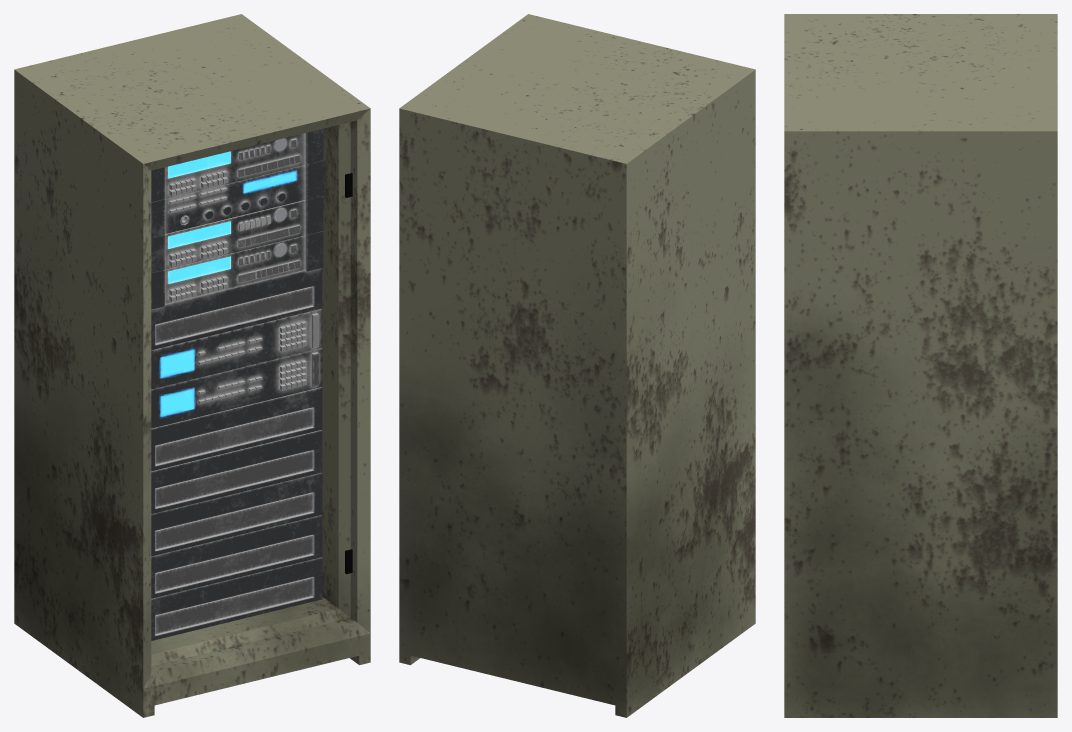
File: M_AudioRack.fbx
3 renders of one model, left to right at view 1: azimuth 30°, elevation 25°; view 2: azimuth 150°, elevation 25°; view 3: azimuth 270°, elevation 25°, orthographic. The views are drawn at different scales.
Visible parts, largest first — view 1: rack_case_GEO, audiorack_GEO, rack_buttons_GEO; view 2: rack_case_GEO; view 3: rack_case_GEO.
Part boxes in pixels (bbox=[...]): rack_case_GEO: bbox=[14, 14, 370, 717]; audiorack_GEO: bbox=[151, 129, 323, 640]; rack_buttons_GEO: bbox=[169, 138, 306, 403]; rack_case_GEO: bbox=[399, 14, 755, 717]; rack_case_GEO: bbox=[784, 14, 1057, 717].
Bounding box in the file's own units: 55.11 × 128 × 54.17.
4 materials, 3 textured.
